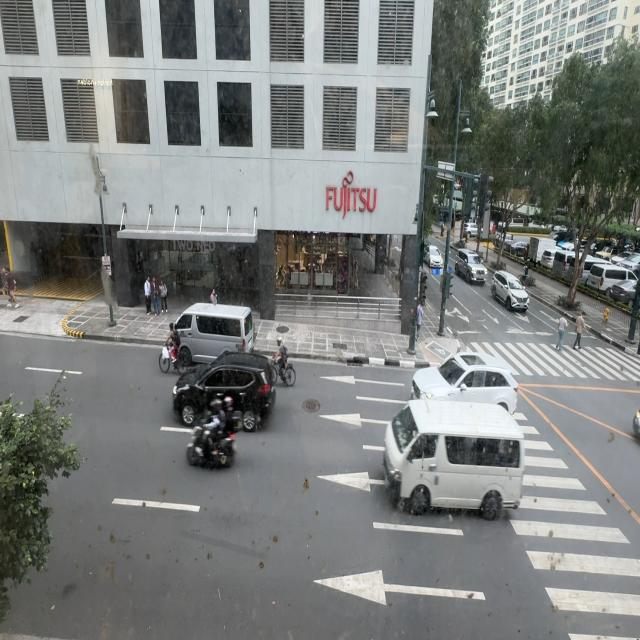crossing: (573, 310, 586, 350), (571, 308, 584, 347), (556, 310, 568, 350), (573, 309, 585, 348)
pedestrain: (4, 265, 19, 307), (151, 277, 161, 316), (159, 279, 168, 314), (416, 300, 424, 339), (522, 263, 528, 286)
